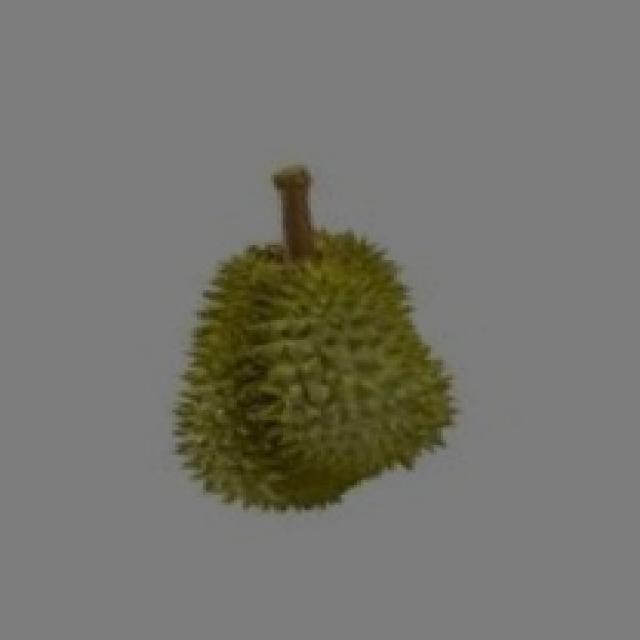fruit: (136, 213, 490, 555)
